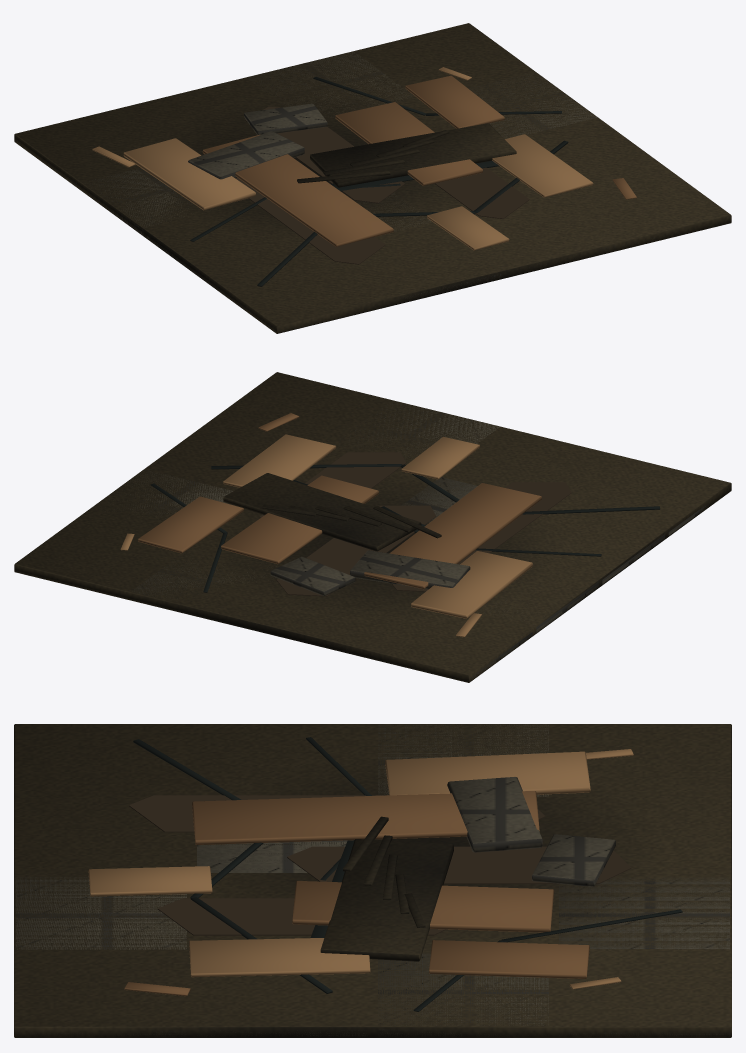
Rendered from asset_060_damaged_flooring_set.glb.
The picture shows the model from 3 angles, top to bottom: view 1: azimuth 30°, elevation 25°; view 2: azimuth 150°, elevation 25°; view 3: azimuth 270°, elevation 25°; orthographic projection. The views are drawn at different scales.
Parts seen in each view (by area): view 1: MESH_DamagedCarpetStainedField, MESH_DamagedWoodUnevenPlankField, MESH_DamagedWoodLiftedFragments, MESH_DamagedWoodSubfloorPocket, MESH_DamagedTileUnevenField, MESH_DamagedCarpetTornFlap, MESH_DamagedTileBrokenAndMissingPieces, MESH_DamagedCarpetFrayedFibres, MESH_DamagedWoodCrackNetwork, MESH_DamagedTileCrackNetwork, MESH_DamagedWoodChips; view 2: MESH_DamagedCarpetStainedField, MESH_DamagedWoodUnevenPlankField, MESH_DamagedWoodLiftedFragments, MESH_DamagedTileUnevenField, MESH_DamagedWoodSubfloorPocket, MESH_DamagedCarpetTornFlap, MESH_DamagedTileBrokenAndMissingPieces, MESH_DamagedCarpetFrayedFibres, MESH_DamagedTileCrackNetwork, MESH_DamagedWoodCrackNetwork, MESH_DamagedWoodChips; view 3: MESH_DamagedCarpetStainedField, MESH_DamagedTileUnevenField, MESH_DamagedWoodUnevenPlankField, MESH_DamagedWoodLiftedFragments, MESH_DamagedWoodSubfloorPocket, MESH_DamagedCarpetTornFlap, MESH_DamagedTileBrokenAndMissingPieces, MESH_DamagedCarpetFrayedFibres, MESH_DamagedTileCrackNetwork, MESH_DamagedWoodCrackNetwork, MESH_DamagedWoodChips.
Boxes of the visible parts, x1,y1,x2,y2 form: MESH_DamagedCarpetStainedField: (14,23,731,333); MESH_DamagedWoodUnevenPlankField: (202,102,593,246); MESH_DamagedWoodLiftedFragments: (123,75,509,250); MESH_DamagedWoodSubfloorPocket: (235,106,529,264); MESH_DamagedTileUnevenField: (50,52,654,330); MESH_DamagedCarpetTornFlap: (310,123,516,191); MESH_DamagedTileBrokenAndMissingPieces: (188,103,327,179); MESH_DamagedCarpetFrayedFibres: (297,130,449,183); MESH_DamagedWoodCrackNetwork: (190,77,561,241); MESH_DamagedTileCrackNetwork: (257,140,568,286); MESH_DamagedWoodChips: (92,67,636,199); MESH_DamagedCarpetStainedField: (14,372,731,682); MESH_DamagedWoodUnevenPlankField: (221,434,541,589); MESH_DamagedWoodLiftedFragments: (138,436,532,618); MESH_DamagedTileUnevenField: (105,400,709,679); MESH_DamagedWoodSubfloorPocket: (259,452,571,596); MESH_DamagedCarpetTornFlap: (223,473,425,551); MESH_DamagedTileBrokenAndMissingPieces: (270,550,470,595); MESH_DamagedCarpetFrayedFibres: (262,504,441,538); MESH_DamagedTileCrackNetwork: (211,464,660,514); MESH_DamagedWoodCrackNetwork: (150,483,601,592); MESH_DamagedWoodChips: (120,413,482,637); MESH_DamagedCarpetStainedField: (14,724,731,1037); MESH_DamagedTileUnevenField: (16,724,729,1036); MESH_DamagedWoodUnevenPlankField: (189,791,554,977); MESH_DamagedWoodLiftedFragments: (88,751,590,978); MESH_DamagedWoodSubfloorPocket: (129,795,631,935); MESH_DamagedCarpetTornFlap: (310,839,453,961); MESH_DamagedTileBrokenAndMissingPieces: (447,777,615,886); MESH_DamagedCarpetFrayedFibres: (343,816,425,927); MESH_DamagedTileCrackNetwork: (133,739,332,993); MESH_DamagedWoodCrackNetwork: (306,737,682,1011); MESH_DamagedWoodChips: (124,749,633,996).
Size of the model in its own units: 1 by 0.035 by 1.
7 materials, 2 textured.
